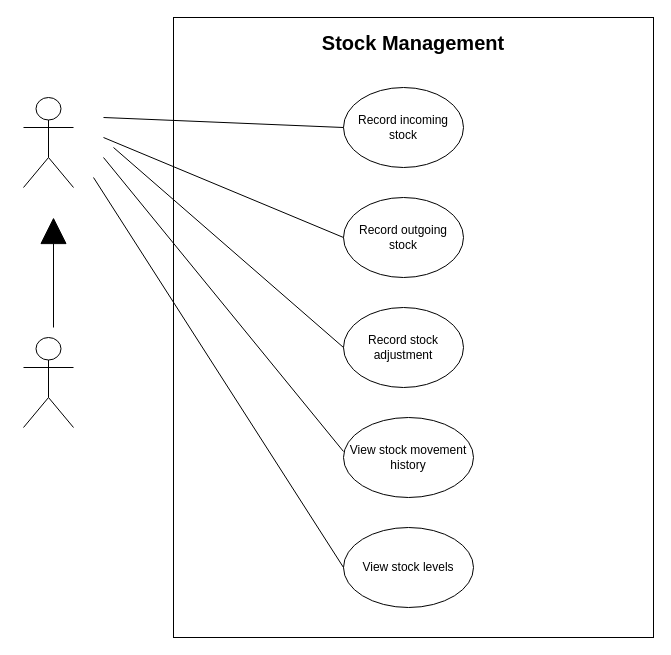
Some shapes in this 671 by 655 pixel diagram are drawn without their labels. The box of each missing label's shape, as (x1, y1, x2, y2) in pixels:
Admin: (22, 336, 74, 428)
Senior Staff: (22, 96, 74, 188)
